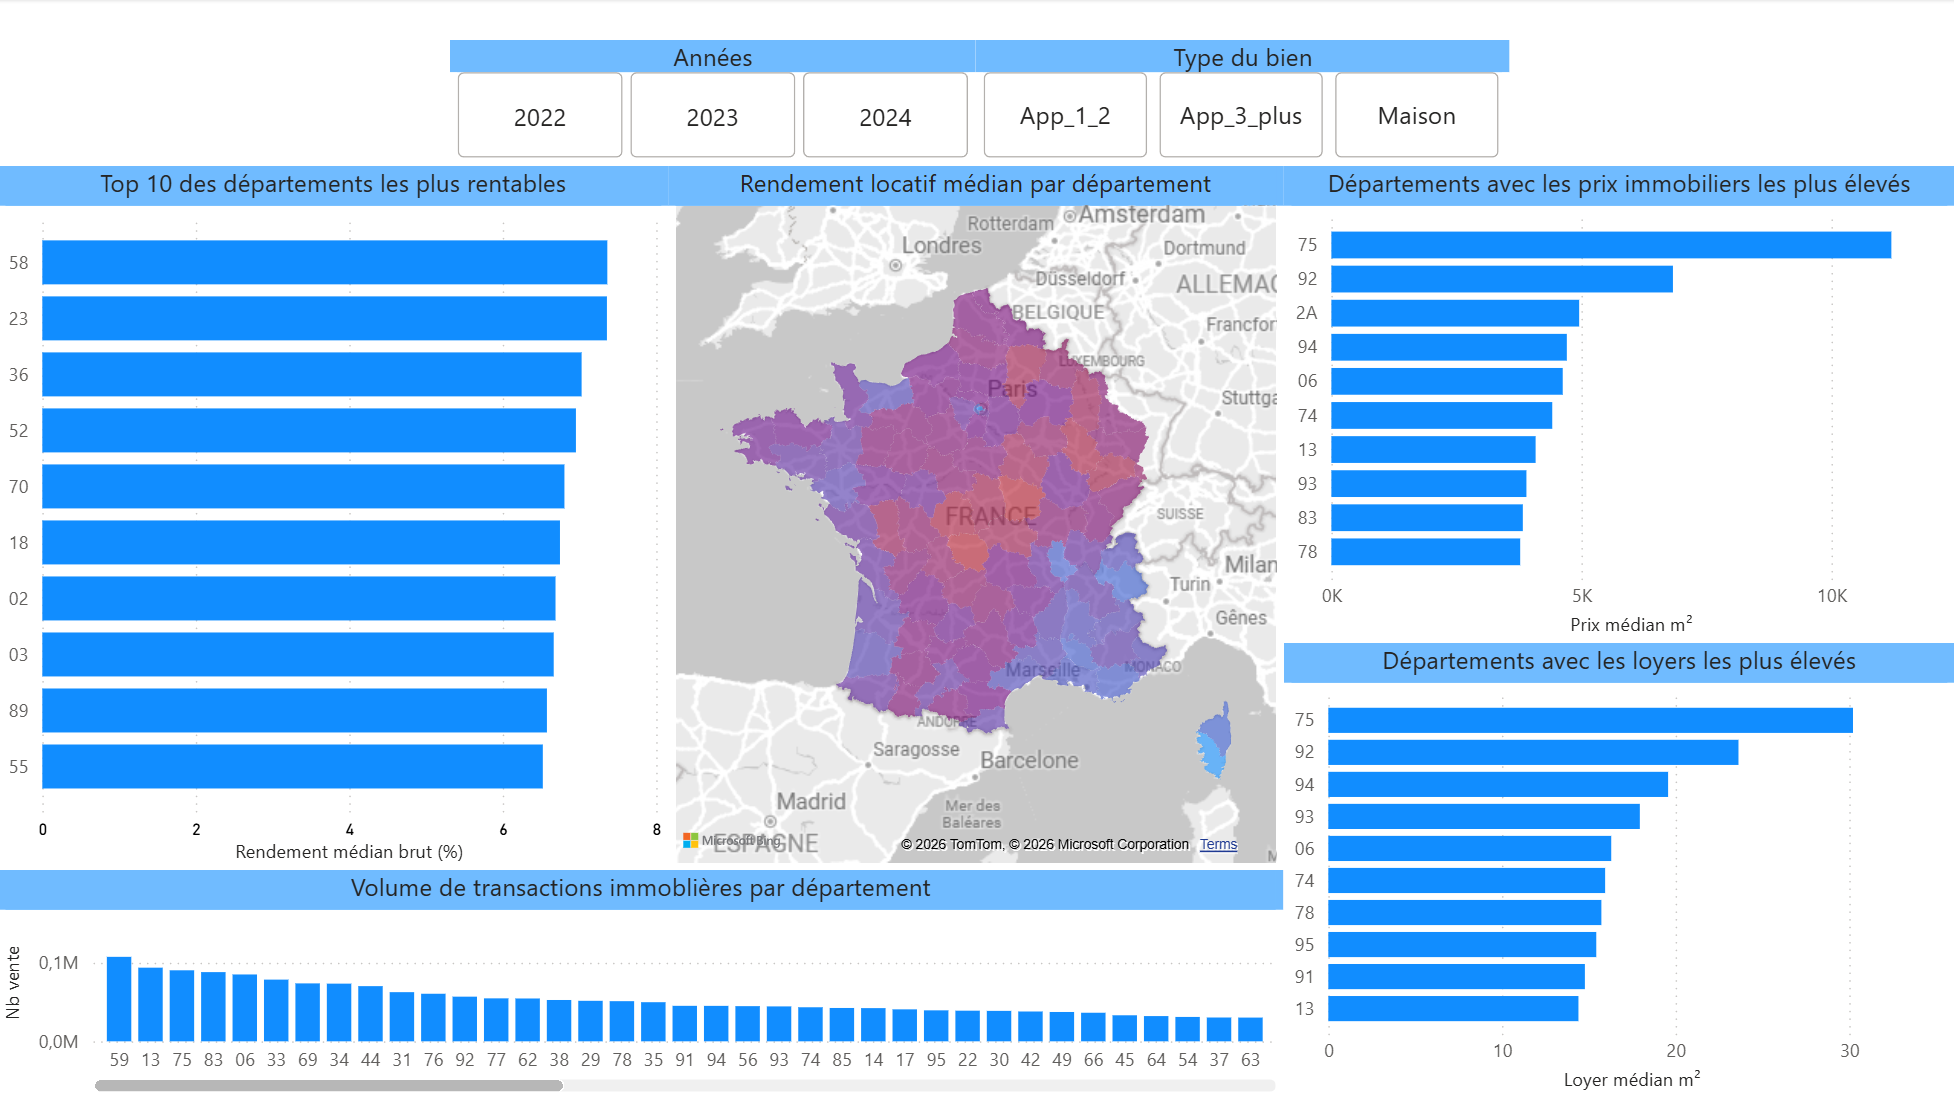

This screenshot's page, from the dashboard's own definition file:
{"tool":"powerbi","page":{"name":"02-Dynamique territoriales","canvas":[1280,720],"ordinal":1},"visuals":[{"type":"filledMap","title":"Rendement locatif médian par département","fields":{"Category":["dashboard_immo_france_FR.departement"]},"box":[438.7,109.2,402.6,460.6],"z":0},{"type":"clusteredBarChart","title":"Top 10 des départements les plus rentables","fields":{"Category":["dashboard_immo_france_FR.departement"],"Y":["dashboard_immo_france_FR.Rendement median"]},"box":[0,109.2,438.7,460.6],"z":1000},{"type":"clusteredBarChart","title":"Départements avec les prix immobiliers les plus élevés","fields":{"Category":["dashboard_immo_france_FR.departement"],"Y":["dashboard_immo_france_FR.Prix median m2"]},"box":[841.3,109.2,438.7,312.5],"z":2000},{"type":"clusteredBarChart","title":"Départements avec les loyers les plus élevés","fields":{"Category":["dashboard_immo_france_FR.departement"],"Y":["dashboard_immo_france_FR.Loyer median m2"]},"box":[841.3,421.7,438.7,298.2],"z":3000},{"type":"clusteredColumnChart","title":"Volume de transactions immoblières par département","fields":{"Category":["dashboard_immo_france_FR.departement"],"Y":["Sum(dashboard_immo_france_FR.nb_ventes)"]},"box":[0,569.7,841.3,150.1],"z":4000},{"type":"advancedSlicerVisual","title":"Années","fields":{"Values":["dashboard_immo_france_FR.annee"]},"box":[295.8,26.8,344.2,82.5],"z":5000},{"type":"advancedSlicerVisual","title":"Type du bien ","fields":{"Values":["dashboard_immo_france_FR.segment_bien"]},"box":[640,26.8,349.4,82.5],"z":6000}]}

Visuals, with their boxes in screenshot pixels (x1, y1, x2, y2), scaled from the page's 1280x720 canvas onto the 1954x1099 screenshot:
"Rendement locatif médian par département" filledMap: left=670, top=167, right=1284, bottom=870
"Top 10 des départements les plus rentables" clusteredBarChart: left=0, top=167, right=670, bottom=870
"Départements avec les prix immobiliers les plus élevés" clusteredBarChart: left=1284, top=167, right=1953, bottom=644
"Départements avec les loyers les plus élevés" clusteredBarChart: left=1284, top=644, right=1953, bottom=1098
"Volume de transactions immoblières par département" clusteredColumnChart: left=0, top=870, right=1284, bottom=1098
"Années" advancedSlicerVisual: left=452, top=41, right=977, bottom=167
"Type du bien " advancedSlicerVisual: left=977, top=41, right=1510, bottom=167
